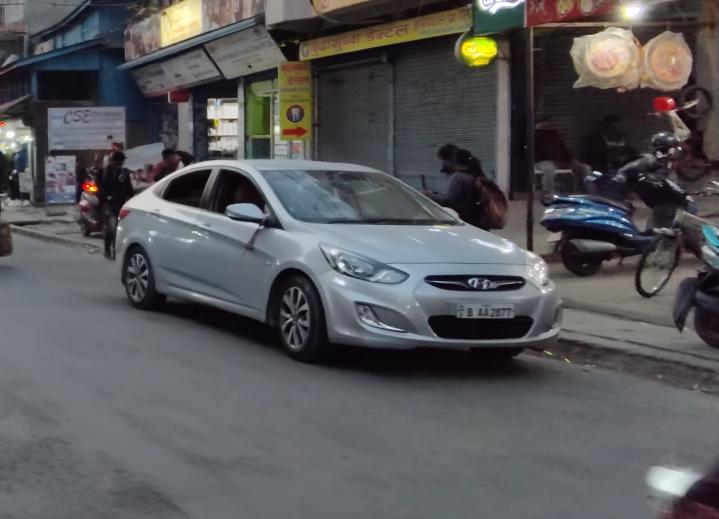car: (109, 150, 564, 363)
scooter: (538, 142, 701, 272)
